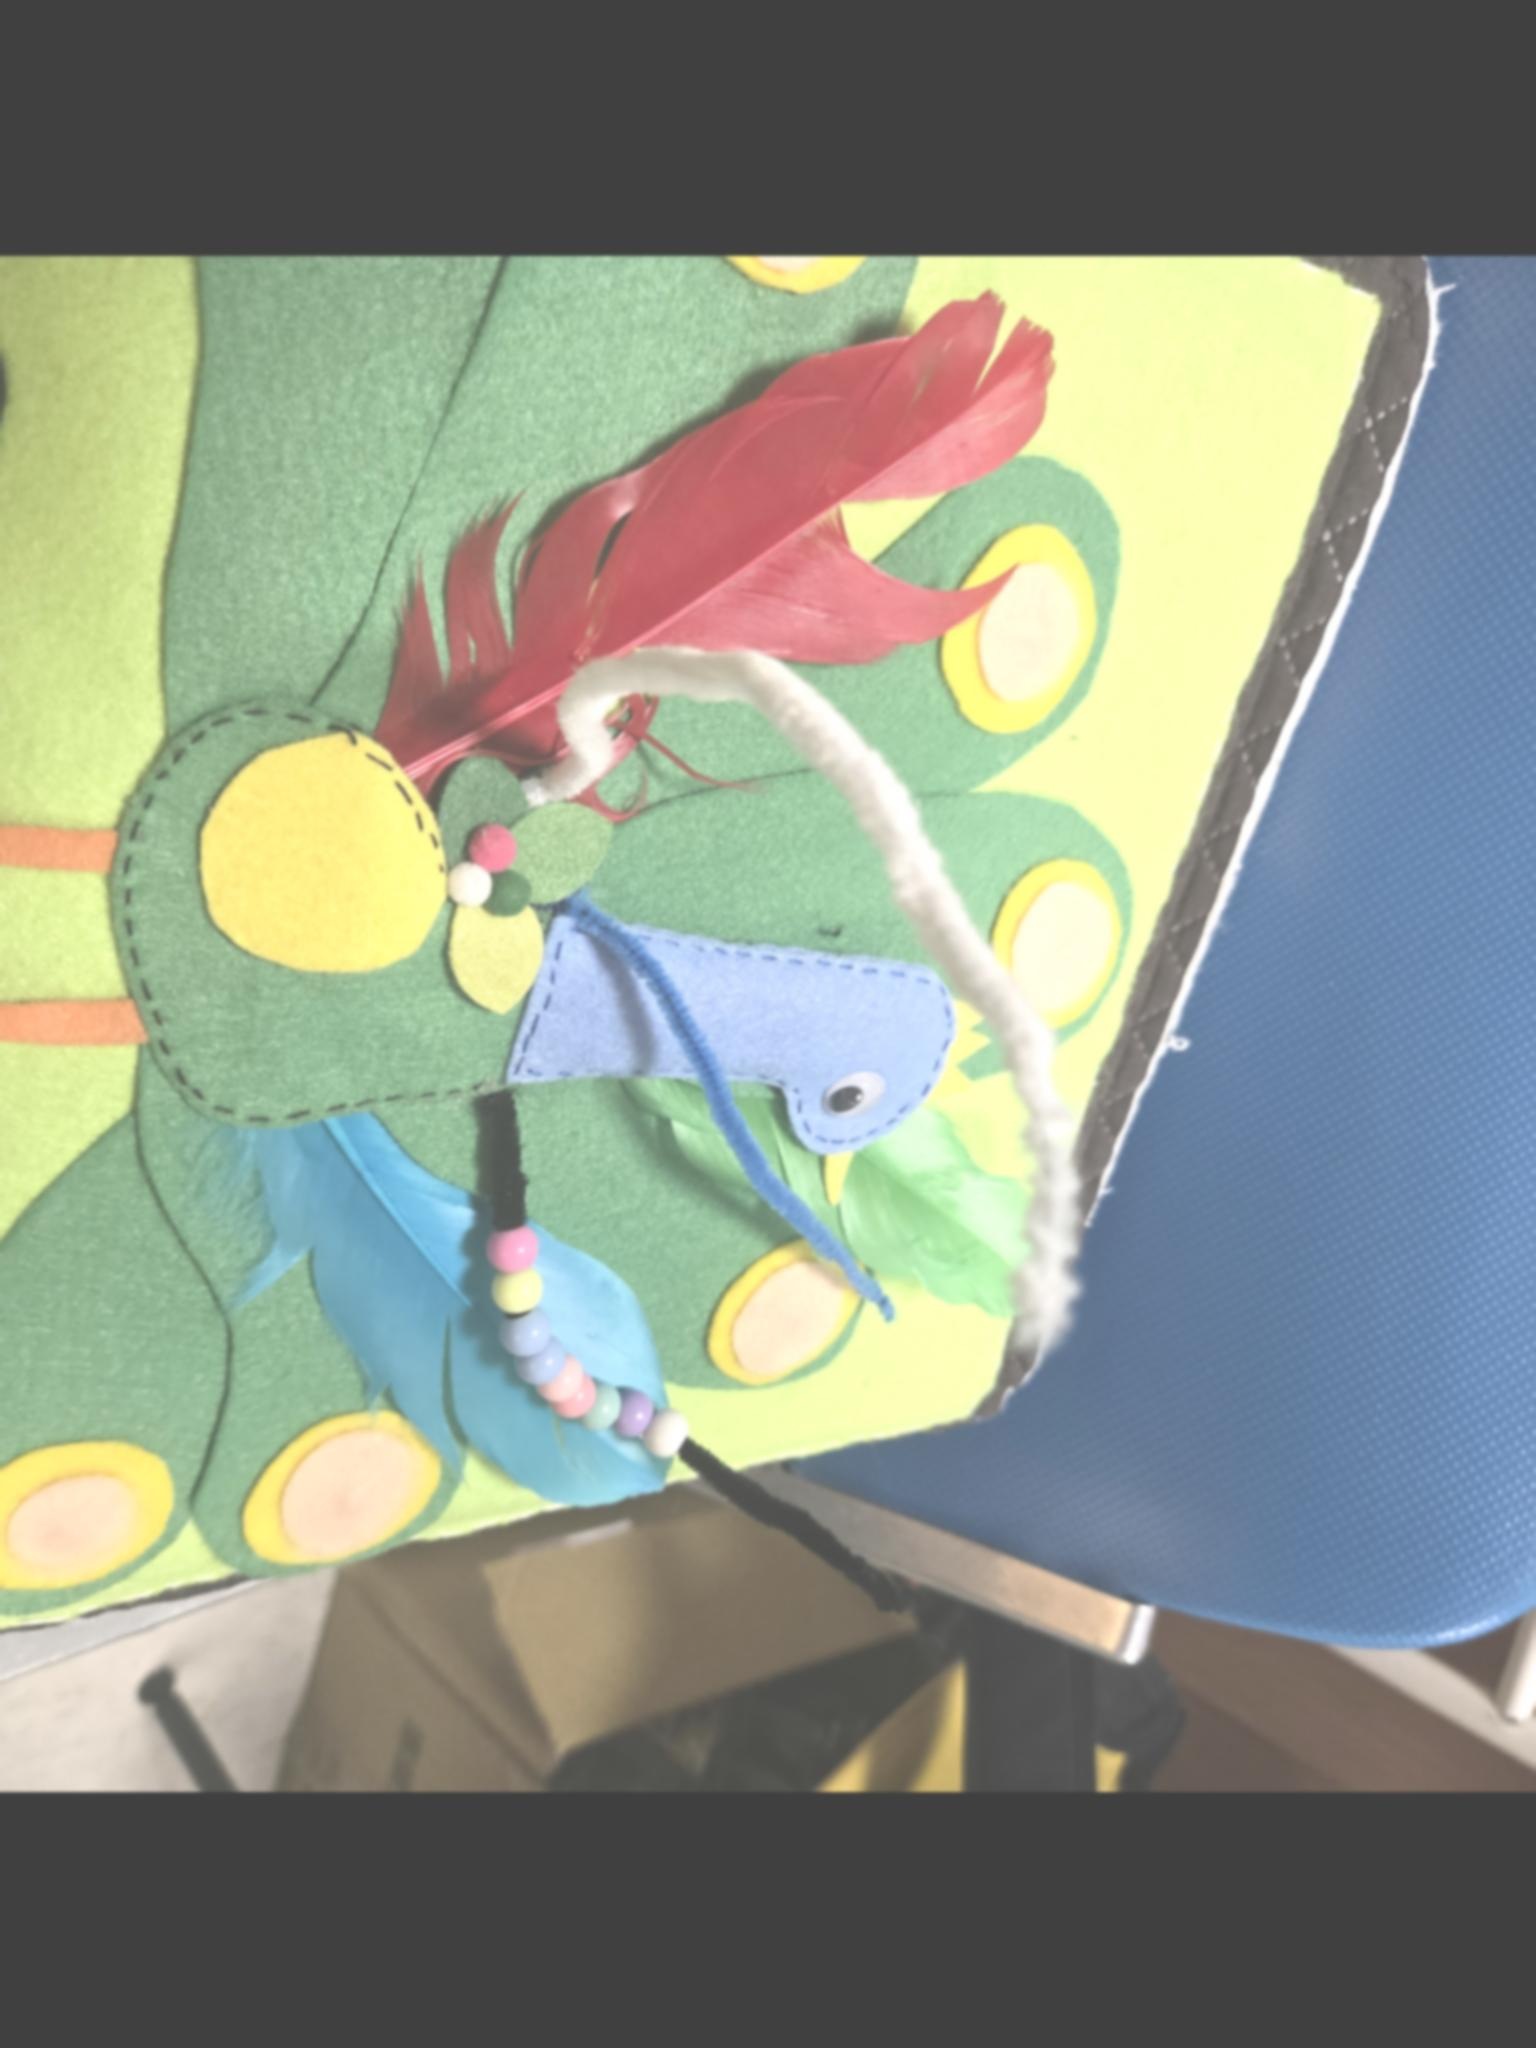bead: (650, 1413, 703, 1474), (487, 1271, 557, 1316), (492, 1221, 542, 1269), (579, 1382, 621, 1434), (620, 1388, 658, 1443), (503, 1359, 561, 1392), (495, 1327, 557, 1356), (549, 1382, 586, 1408)
